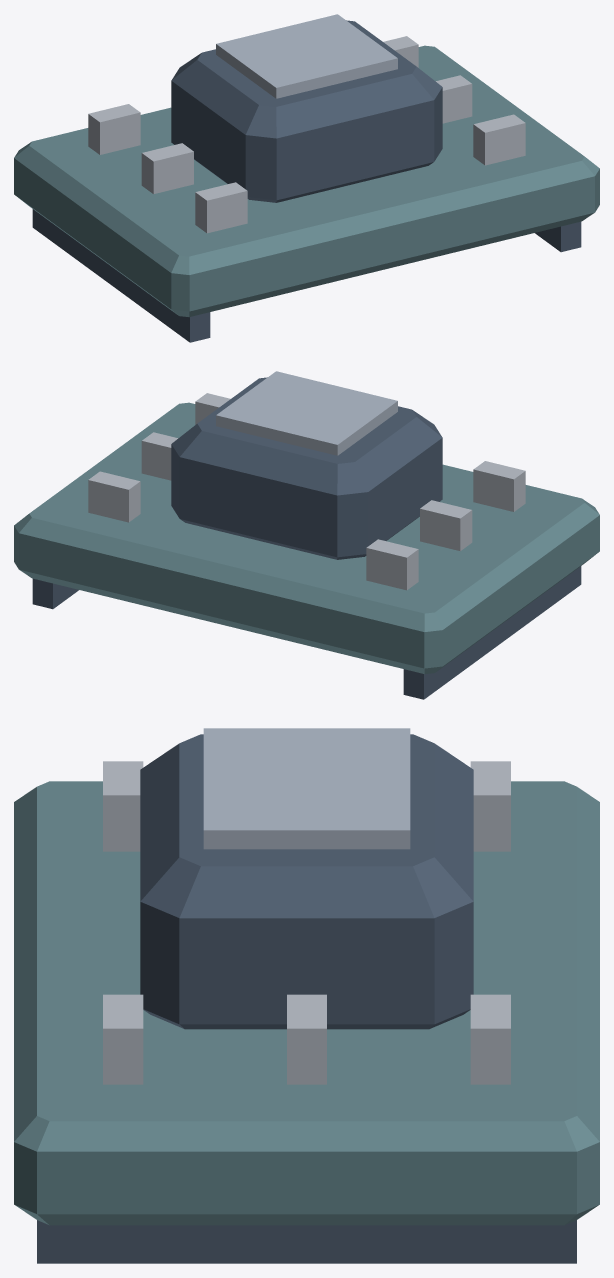
The model's file is chip-base.glb.
3 renders of one model, top to bottom at view 1: azimuth 30°, elevation 25°; view 2: azimuth 150°, elevation 25°; view 3: azimuth 270°, elevation 25°, orthographic. The views are drawn at different scales.
Parts seen in each view (by area): view 1: 000_flight_control_board, 003_processor, 004_processor_stamp, 001_pcb_mounting, 005_connector, 007_connector, 010_connector, 006_connector, 009_connector, 002_pcb_mounting, 008_connector; view 2: 000_flight_control_board, 003_processor, 004_processor_stamp, 001_pcb_mounting, 005_connector, 007_connector, 008_connector, 006_connector, 009_connector, 002_pcb_mounting, 010_connector; view 3: 000_flight_control_board, 003_processor, 004_processor_stamp, 002_pcb_mounting, 008_connector, 010_connector, 009_connector, 005_connector, 007_connector.
Boxes of the visible parts, x1,y1,x2,y2 form: 000_flight_control_board: (14,45,599,317); 003_processor: (171,20,442,202); 004_processor_stamp: (216,14,397,98); 001_pcb_mounting: (32,209,210,342); 005_connector: (88,104,140,154); 007_connector: (195,182,247,233); 010_connector: (473,114,525,165); 006_connector: (141,143,193,194); 009_connector: (436,75,472,123); 002_pcb_mounting: (535,221,581,252); 008_connector: (383,36,418,67); 000_flight_control_board: (14,402,599,674); 003_processor: (171,377,442,559); 004_processor_stamp: (216,371,397,455); 001_pcb_mounting: (403,566,581,699); 005_connector: (366,539,418,590); 007_connector: (473,461,525,511); 008_connector: (88,471,140,522); 006_connector: (420,500,472,551); 009_connector: (141,432,177,480); 002_pcb_mounting: (32,578,78,609); 010_connector: (195,393,230,424); 000_flight_control_board: (14,781,599,1225); 003_processor: (140,734,473,1029); 004_processor_stamp: (203,728,410,849); 002_pcb_mounting: (37,1220,576,1263); 008_connector: (470,994,510,1084); 010_connector: (103,994,143,1084); 009_connector: (287,994,326,1084); 005_connector: (470,761,510,851); 007_connector: (103,761,143,851).
Bounding box in the file's own units: 0.74 × 0.3075 × 0.51.
